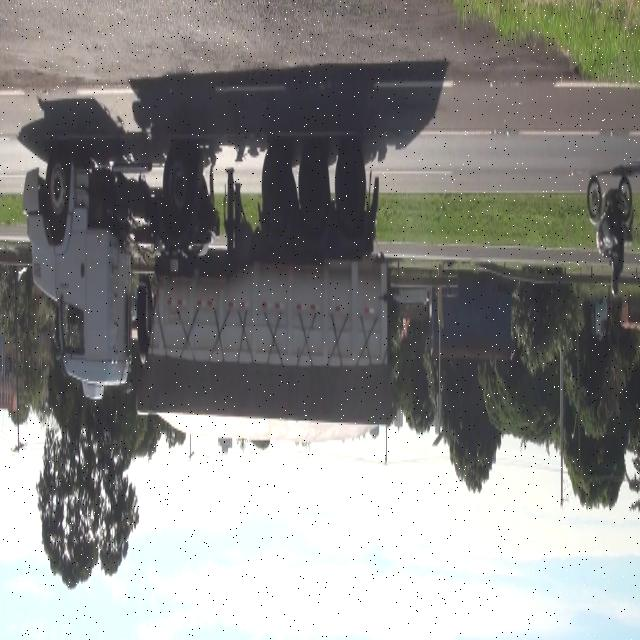-axle: (333, 140, 367, 236), (262, 138, 296, 229), (162, 140, 197, 226), (299, 144, 330, 232), (45, 148, 72, 222)
